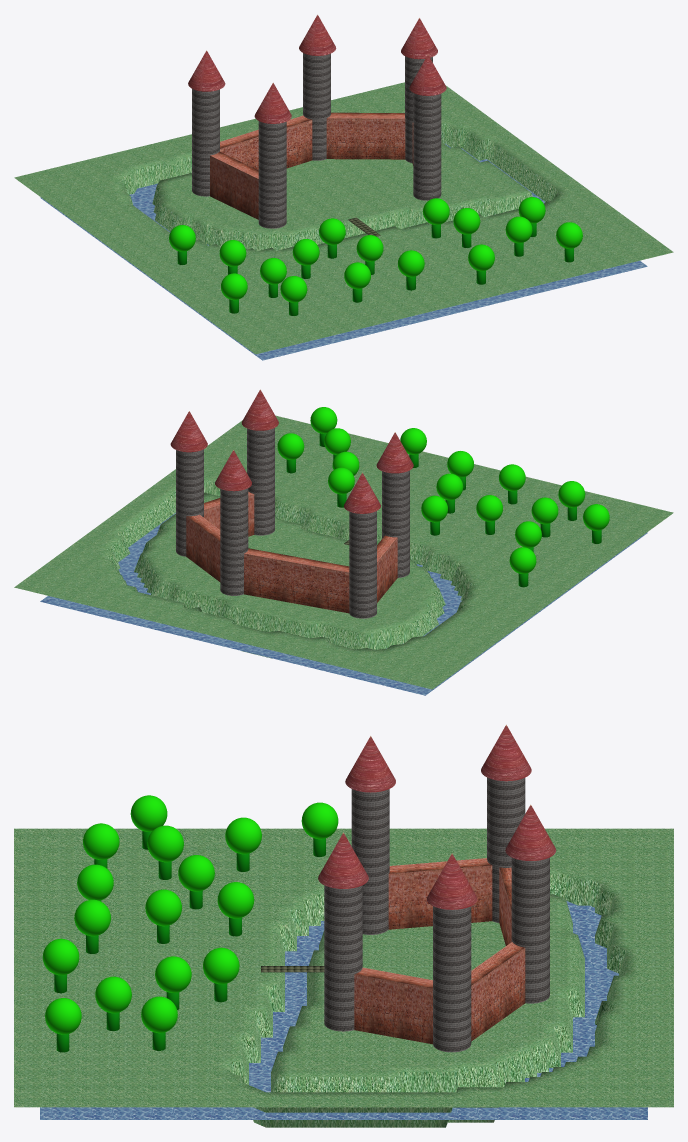
Rendered from new_castle.gltf.
The picture shows the model from 3 angles, top to bottom: view 1: azimuth 30°, elevation 25°; view 2: azimuth 150°, elevation 25°; view 3: azimuth 270°, elevation 25°; orthographic projection. The views are drawn at different scales.
Parts seen in each view (by area): view 1: Plane, Plane.001, Cylinder.001, Cylinder.002, Cube.003, Cylinder, Cylinder.003, Cube.002, Cube.001, Cylinder.004, Cylinder.009, Cylinder.018 (+14 smaller); view 2: Plane, Plane.001, Cube.001, Cylinder, Cylinder.003, Cylinder.002, Cylinder.001, Cylinder.004, Cube.003, Cube.002, Cylinder.008, Cylinder.006 (+14 smaller); view 3: Plane, Plane.001, Cylinder.004, Cylinder.002, Cylinder.003, Cylinder.001, Cube.004, Cylinder, Cube.002, Cube.003, Cylinder.005, Cylinder.017 (+15 smaller).
Boxes of the visible parts, <box> form: Plane: <box>14,82,673,354</box>; Plane.001: <box>40,143,647,360</box>; Cylinder.001: <box>254,82,291,228</box>; Cylinder.002: <box>409,55,446,200</box>; Cube.003: <box>326,112,405,159</box>; Cylinder: <box>188,50,225,196</box>; Cylinder.003: <box>299,14,336,160</box>; Cube.002: <box>210,151,258,219</box>; Cube.001: <box>220,115,312,170</box>; Cylinder.004: <box>401,18,437,163</box>; Cylinder.009: <box>344,262,370,302</box>; Cylinder.018: <box>505,216,532,256</box>; Plane: <box>14,415,673,689</box>; Plane.001: <box>40,513,647,695</box>; Cube.001: <box>244,548,349,613</box>; Cylinder: <box>344,472,380,618</box>; Cylinder.003: <box>215,450,251,595</box>; Cylinder.002: <box>241,389,278,535</box>; Cylinder.001: <box>376,432,413,577</box>; Cylinder.004: <box>170,411,207,556</box>; Cube.003: <box>186,514,220,581</box>; Cube.002: <box>377,535,397,602</box>; Cylinder.008: <box>509,547,536,587</box>; Cylinder.006: <box>531,497,558,537</box>; Plane: <box>14,828,673,1127</box>; Plane.001: <box>40,901,647,1119</box>; Cylinder.004: <box>426,853,477,1052</box>; Cylinder.002: <box>318,832,368,1031</box>; Cylinder.003: <box>505,804,556,1003</box>; Cylinder.001: <box>345,736,395,934</box>; Cube.004: <box>354,967,432,1044</box>; Cylinder: <box>481,724,531,922</box>; Cube.002: <box>388,858,492,929</box>; Cube.003: <box>471,942,525,1041</box>; Cylinder.005: <box>178,855,214,909</box>; Cylinder.017: <box>141,996,177,1050</box>.
Size of the model in its own units: 100 by 38.8 by 100.
8 materials, 6 textured.
